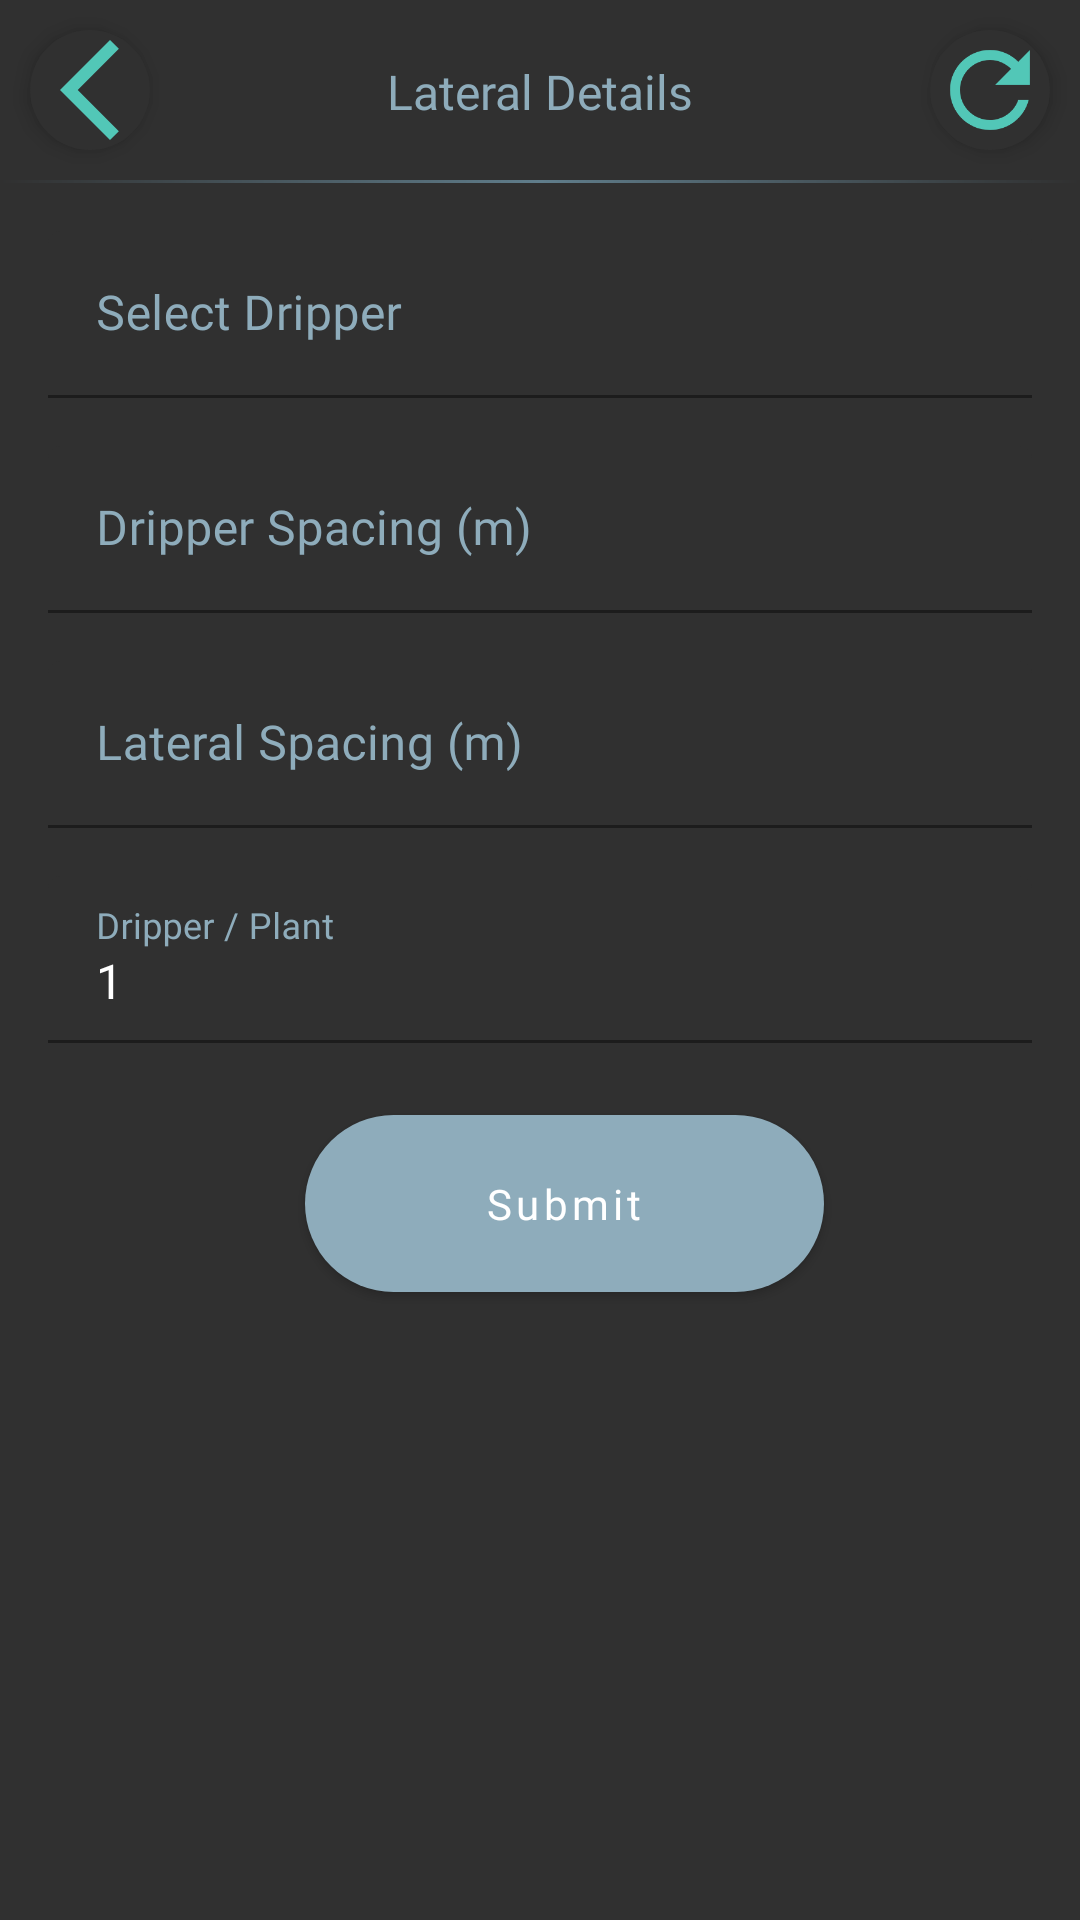

Screen size 1080×1920. Icon name, then its center in pixels as (x,y):
Back: (89,90)
Reset: (990,90)
